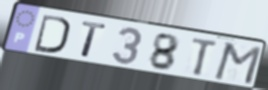3: (110, 26, 144, 67)
8: (148, 32, 183, 72)
D: (32, 12, 72, 55)
M: (211, 41, 264, 87)
T: (190, 37, 220, 77), (80, 20, 109, 60)
